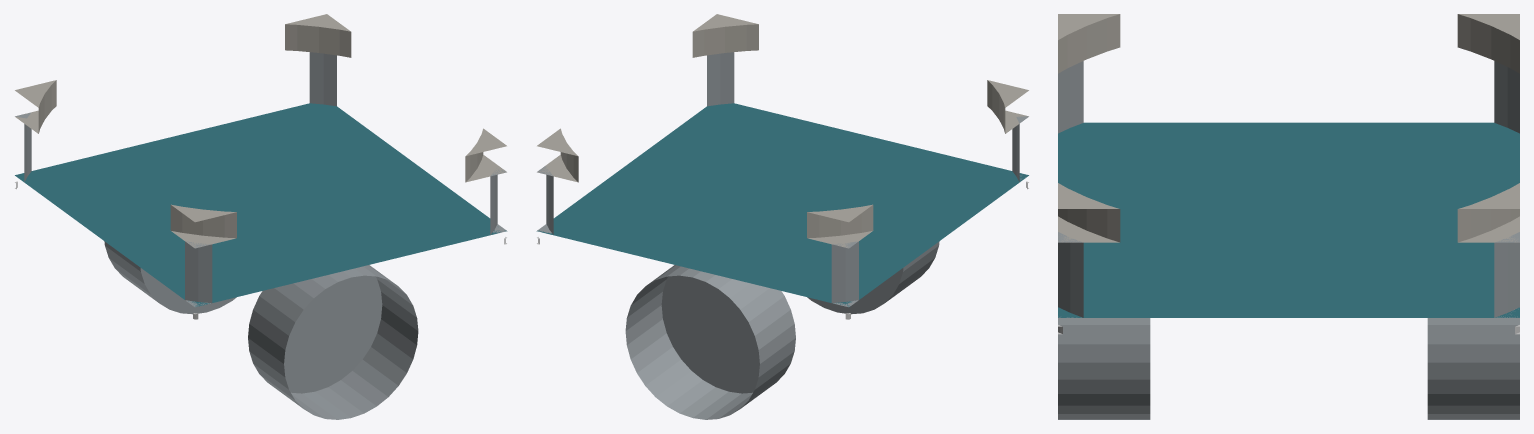
The model's file is cell_13.obj.
3 views of the same model, side by side, from view 1: azimuth 30°, elevation 25°; view 2: azimuth 150°, elevation 25°; view 3: azimuth 270°, elevation 25° (orthographic). The views are drawn at different scales.
Bounding box in the file's own units: 1 × 0.715 × 1.
